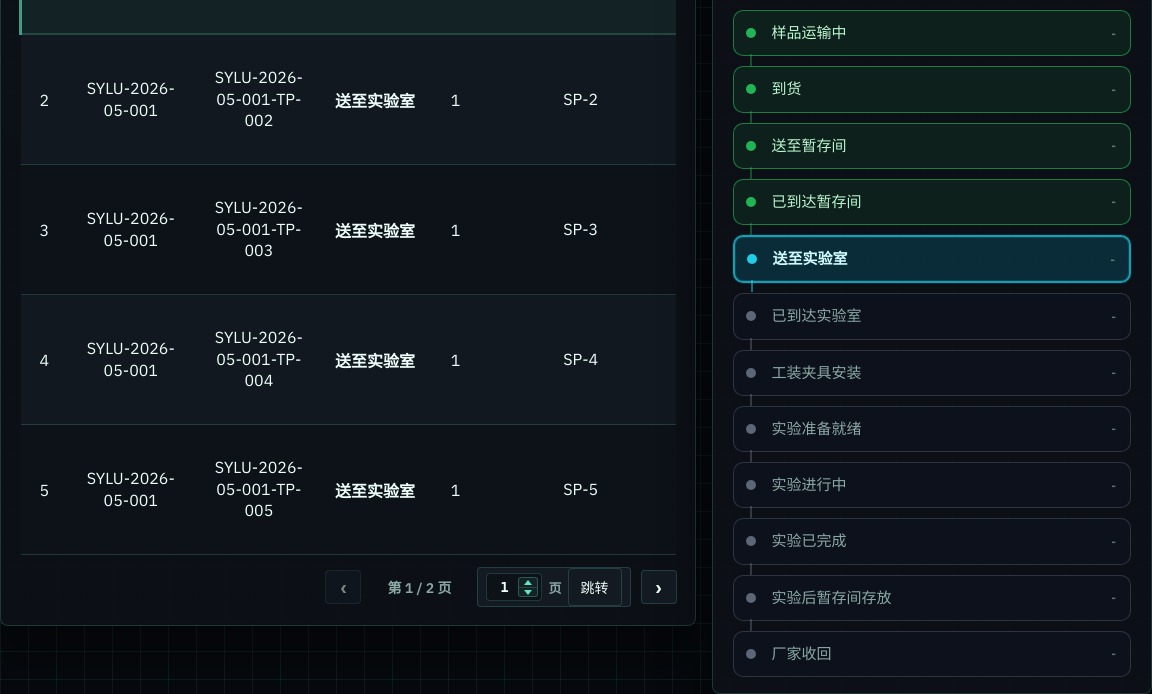
Test: TrayManagementPanel › paginates tray rows to five per page
This screenshot has width=1152, height=694.
(page scrolled)
Expected: the text "SYLU-2026-05-001-TP-006" is not shown
Expected: the text with test id "pagination-status" reads "第 1 / 2 页", [387,579,452,597]
Click the button "›".
click(658, 587)  # box [640,570,676,604]
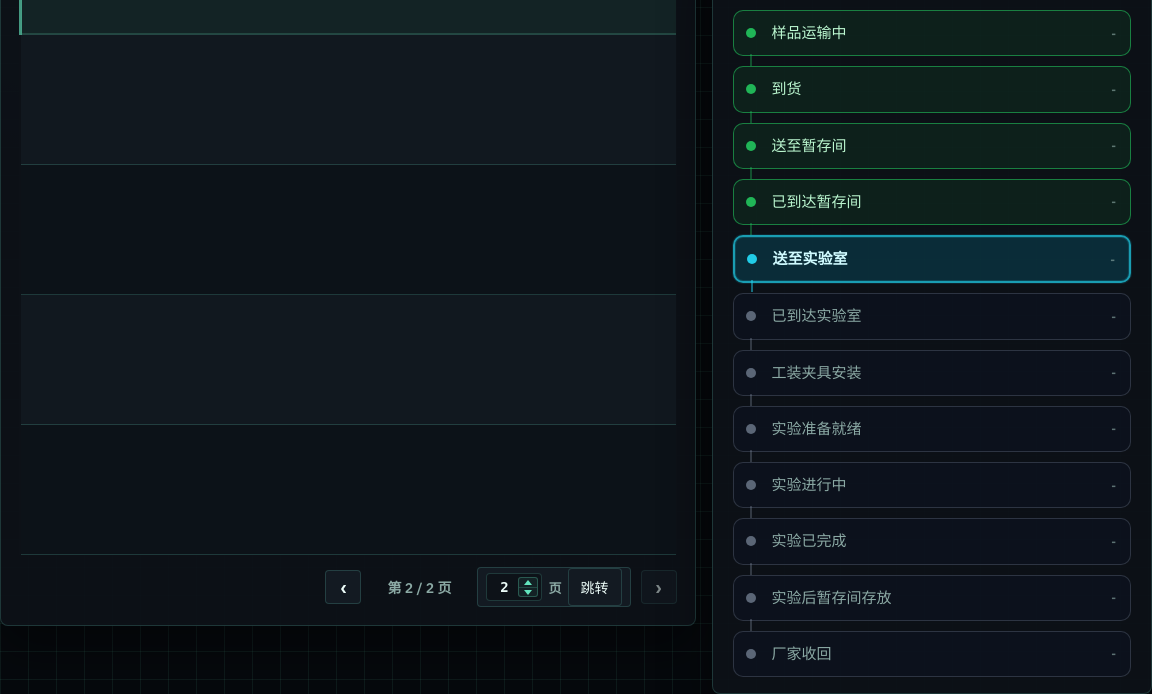
Expected: the number of rows with class "samples-trays-row--placeholder" is 4, [20,34,676,164]; [20,164,676,294]; [20,294,676,424]; [20,424,676,554]
